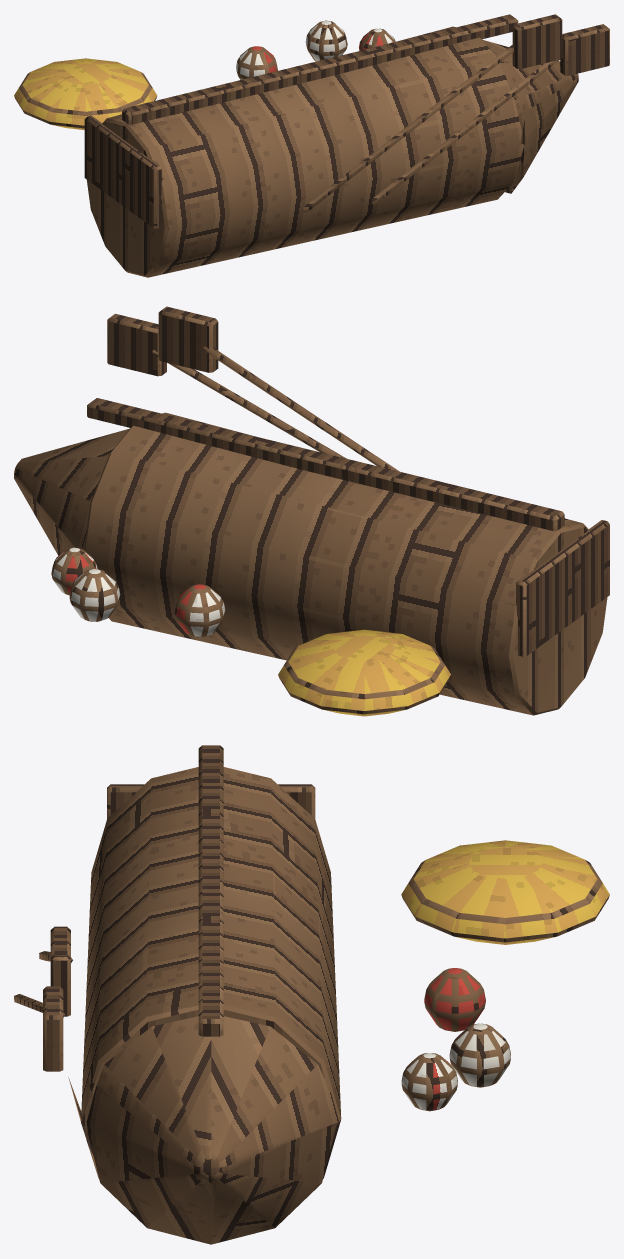
File: spec_rowboat_2.glb
The picture shows the model from 3 angles, top to bottom: view 1: azimuth 30°, elevation 25°; view 2: azimuth 150°, elevation 25°; view 3: azimuth 270°, elevation 25°; orthographic projection. The views are drawn at different scales.
Parts seen in each view (by area): view 1: spec_rowboat_2; view 2: spec_rowboat_2; view 3: spec_rowboat_2.
Part boxes in pixels (<box>): spec_rowboat_2: <box>14,14,609,277</box>; spec_rowboat_2: <box>14,306,609,716</box>; spec_rowboat_2: <box>14,745,609,1244</box>.
Size of the model in its own units: 3.04 by 1.32 by 2.36.
5 materials, 5 textured.
